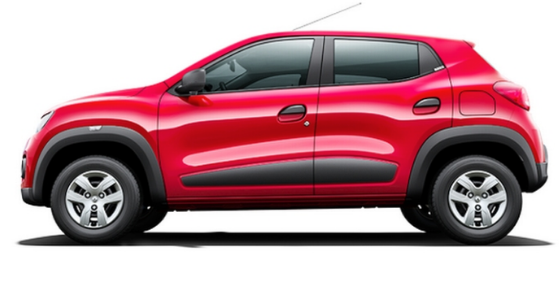car: (17, 27, 550, 270)
